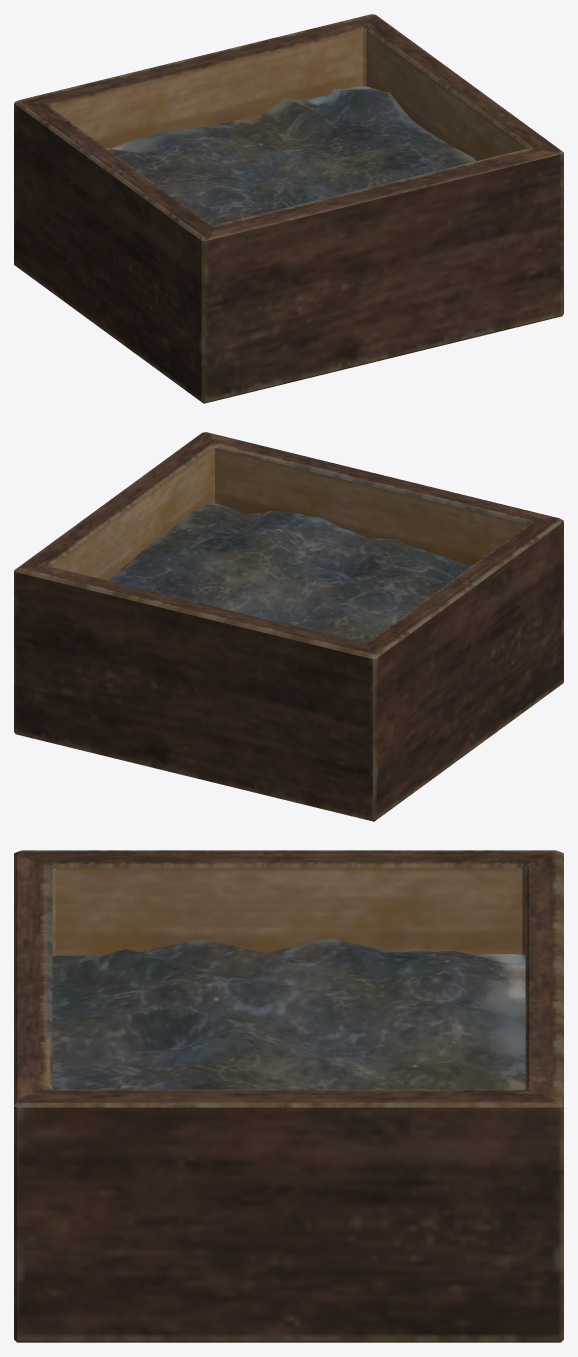
Rendered from SM_Baduk02a.fbx.
3 renders of one model, top to bottom at view 1: azimuth 30°, elevation 25°; view 2: azimuth 150°, elevation 25°; view 3: azimuth 270°, elevation 25°, orthographic. The views are drawn at different scales.
Visible parts, largest first — view 1: SM_Baduk02a; view 2: SM_Baduk02a; view 3: SM_Baduk02a.
Part boxes in pixels (x1,y1,x2,y2): SM_Baduk02a: [14, 14, 563, 403]; SM_Baduk02a: [14, 432, 563, 821]; SM_Baduk02a: [14, 850, 563, 1342].
Bounding box in the file's own units: 11 × 10 × 4.8.
1 material, 1 textured.
